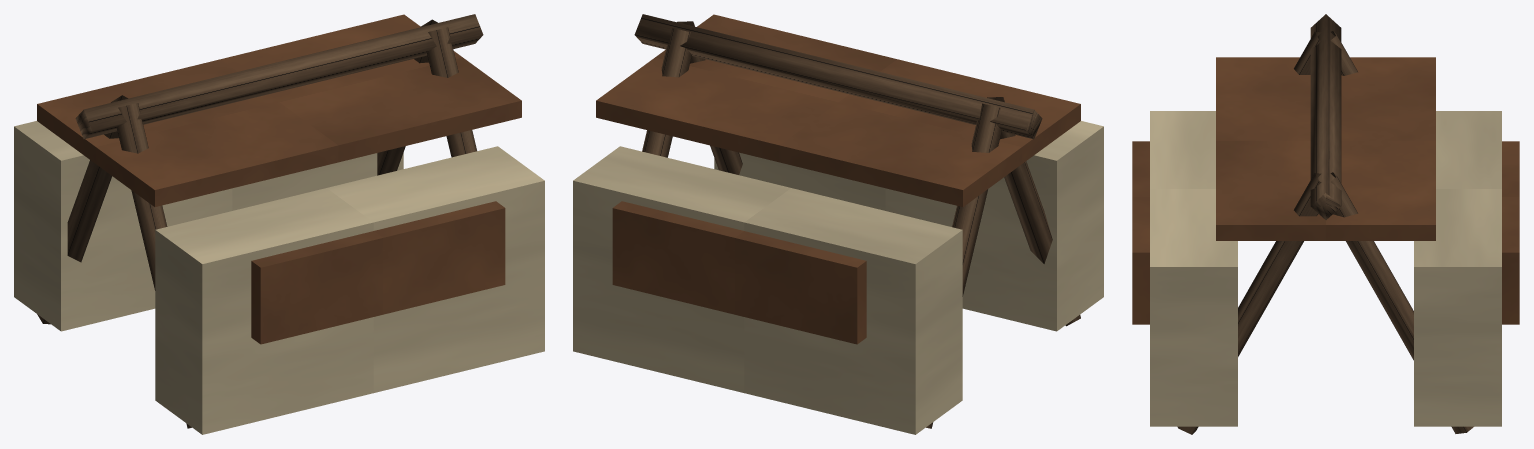
Rendered from PackSaddle_1_LOD1.gltf.
The picture shows the model from 3 angles, left to right: view 1: azimuth 30°, elevation 25°; view 2: azimuth 150°, elevation 25°; view 3: azimuth 270°, elevation 25°; orthographic projection. The views are drawn at different scales.
Visible parts, largest first — view 1: PackSaddle_1_LOD1; view 2: PackSaddle_1_LOD1; view 3: PackSaddle_1_LOD1.
Boxes of the visible parts, <box> form: PackSaddle_1_LOD1: <box>14,14,544,434</box>; PackSaddle_1_LOD1: <box>573,14,1103,434</box>; PackSaddle_1_LOD1: <box>1132,14,1519,434</box>.
Bounding box in the file's own units: 0.96 × 0.6481 × 0.88.
3 materials, 3 textured.
